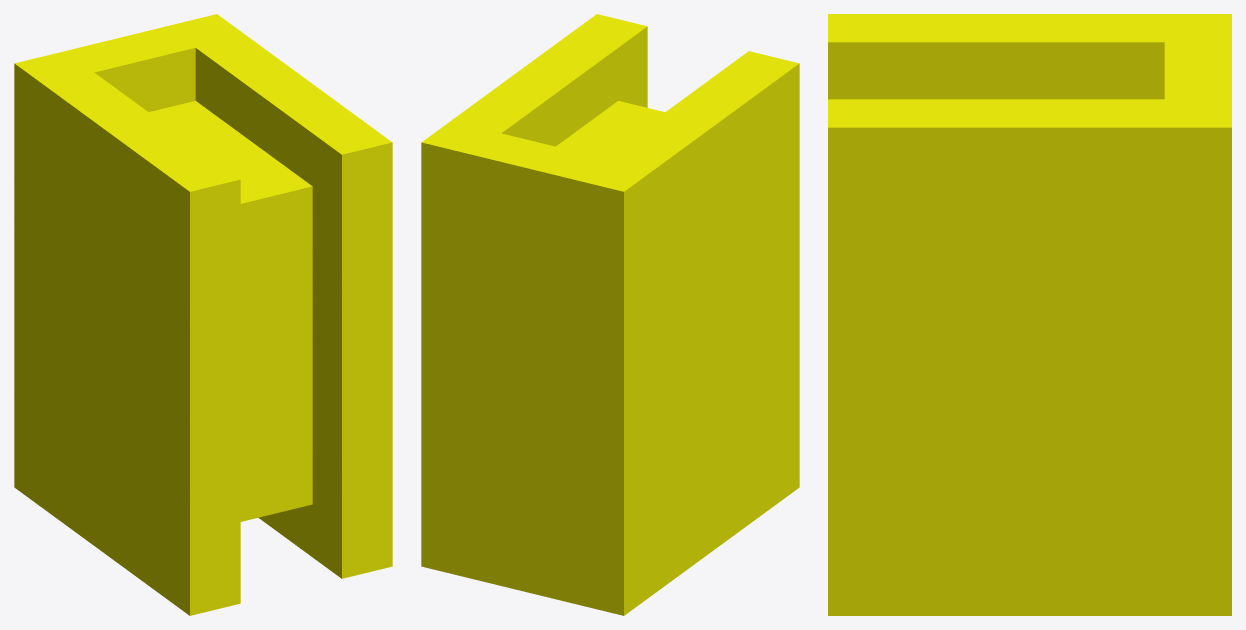
File: voxel-cathedral-tome.glb
3 views of the same model, side by side, from view 1: azimuth 30°, elevation 25°; view 2: azimuth 150°, elevation 25°; view 3: azimuth 270°, elevation 25° (orthographic). The views are drawn at different scales.
Visible parts, largest first — view 1: VS_Cathedral_Props_Tome_001.001; view 2: VS_Cathedral_Props_Tome_001.001; view 3: VS_Cathedral_Props_Tome_001.001.
Boxes of the visible parts, x1,y1,x2,y2 form: VS_Cathedral_Props_Tome_001.001: (14, 14, 392, 615); VS_Cathedral_Props_Tome_001.001: (421, 14, 799, 615); VS_Cathedral_Props_Tome_001.001: (828, 14, 1231, 615).
Size of the model in its own units: 0.3999 by 0.8 by 0.6.
